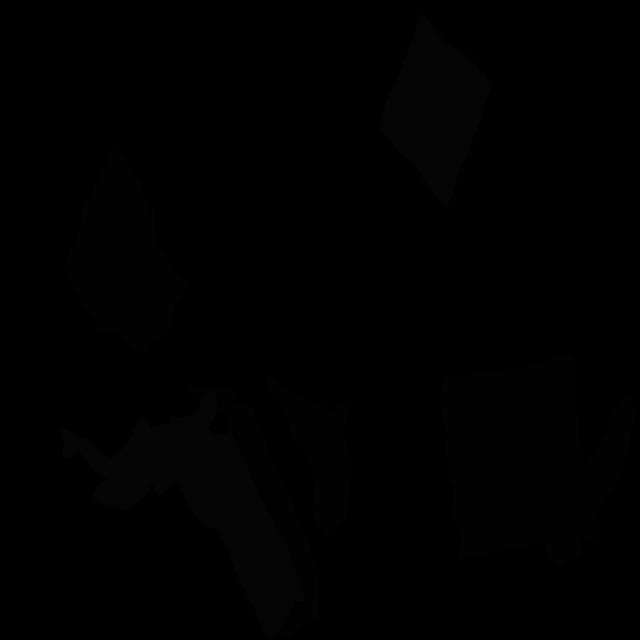cardboard: (440, 355, 636, 568), (64, 147, 189, 352), (228, 401, 320, 640), (266, 373, 352, 538), (185, 384, 239, 416)
soft_plastic: (61, 389, 306, 637), (378, 13, 490, 205)
